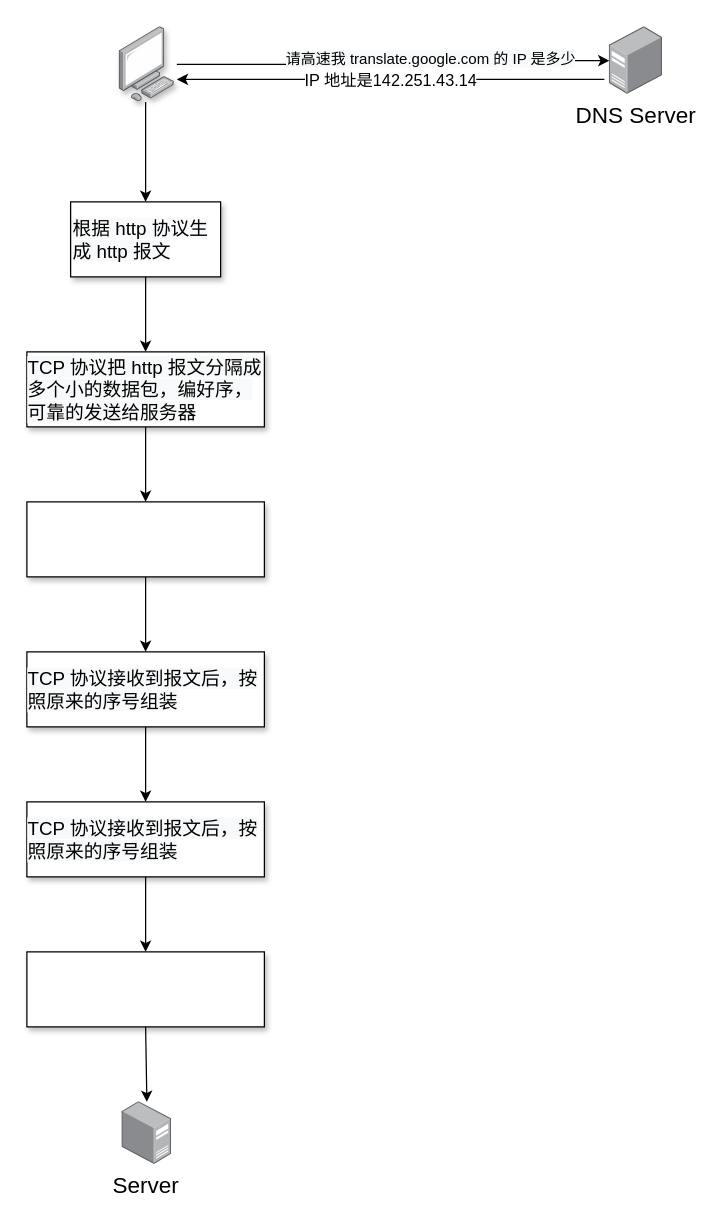
Image size: 718x1221. Some labels were removed from this diagram. Here are the shapes that lost their labels. From the top down, the centre of each, then its label:
the point at 146,65: client
the point at 146,541: 搜索对方的 IP 地址，从多个路由线路中选择一条传输数据
the point at 146,991: Http 协议根据报文中的内容到服务器上获取资源
